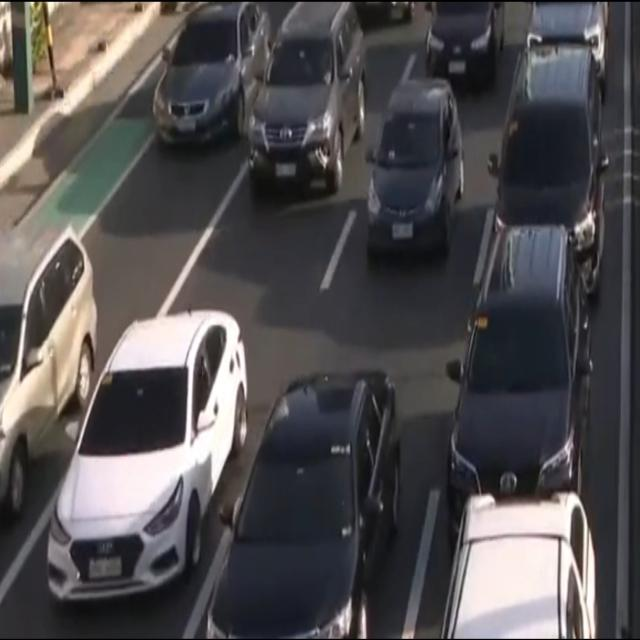SUV: (445, 244, 600, 506), (0, 210, 98, 523), (251, 0, 367, 213), (487, 59, 612, 227), (363, 77, 465, 276), (420, 0, 517, 65)
Sedan: (44, 314, 248, 607), (213, 364, 399, 640), (150, 0, 272, 149)
